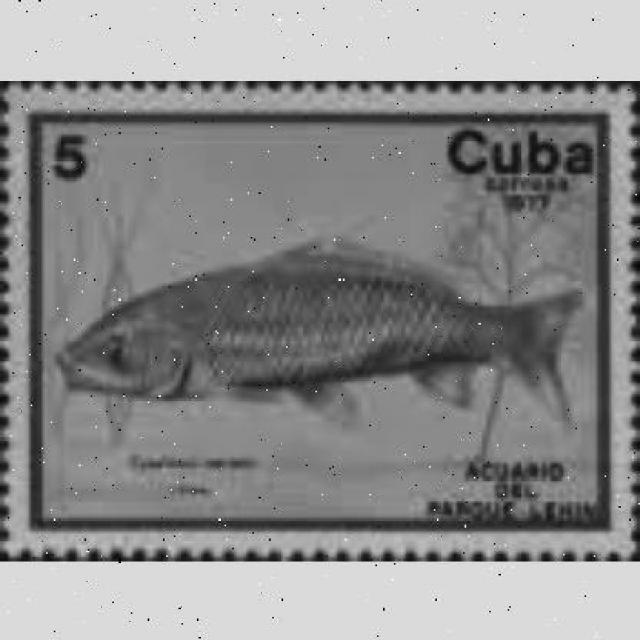ikan-mas: (64, 232, 582, 414)
